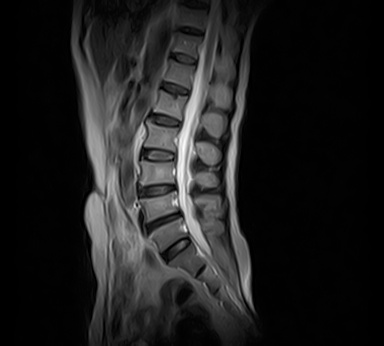L1,v2: (149, 89, 193, 117)
L1-L2,v1: (142, 105, 186, 136)
L2,v2: (137, 122, 187, 153)
L3-L4,v1: (132, 137, 185, 170)
L3-L4,v2: (135, 172, 181, 203)
L4,v2: (133, 154, 183, 188), (135, 186, 183, 221)
L4-L5,v2: (138, 203, 189, 235)
L5,v2: (147, 217, 192, 250)
L5-S1,v2: (149, 229, 198, 263)
T12-L1,v1: (153, 73, 196, 104), (160, 44, 207, 72)
